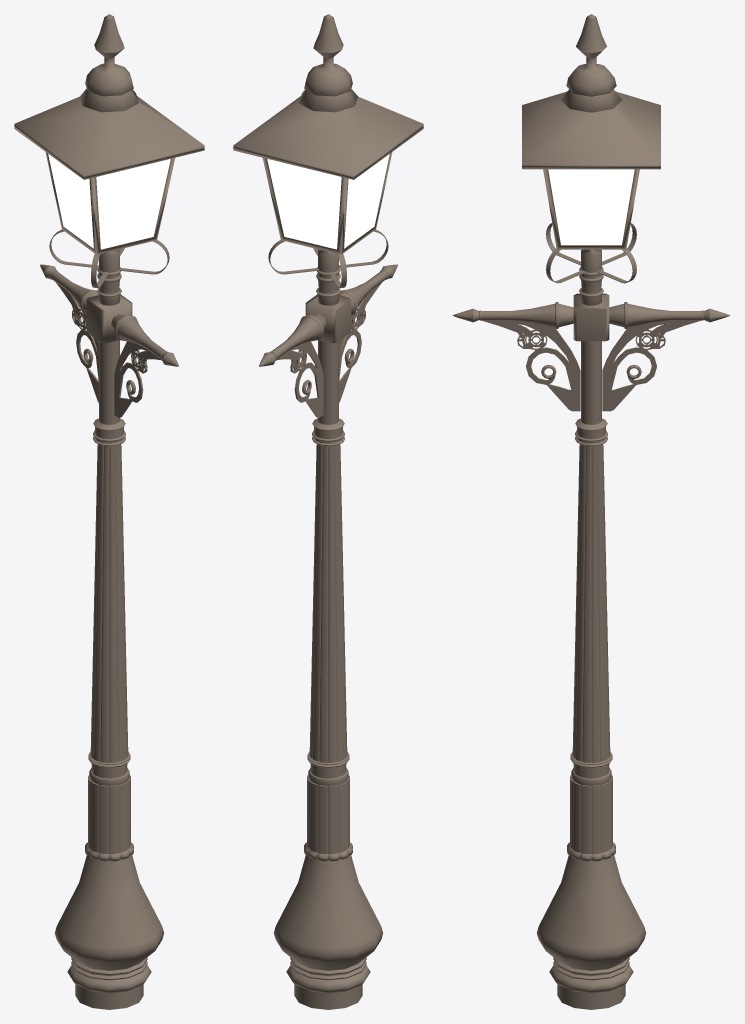
File: rv_lamp_post_3_01.glb
3 views of the same model, side by side, from view 1: azimuth 30°, elevation 25°; view 2: azimuth 150°, elevation 25°; view 3: azimuth 270°, elevation 25° (orthographic).
Parts seen in each view (by area): view 1: rv_lamp_post_3; view 2: rv_lamp_post_3; view 3: rv_lamp_post_3.
Boxes of the visible parts, bbox=[...] form: rv_lamp_post_3: bbox=[14, 14, 204, 1009]; rv_lamp_post_3: bbox=[233, 14, 423, 1009]; rv_lamp_post_3: bbox=[452, 14, 730, 1009].
Bounding box in the file's own units: 2.74 × 21.27 × 5.47.
